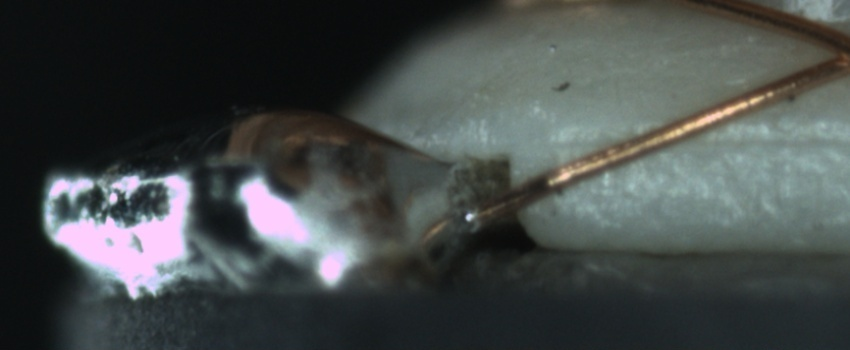DL: (560, 111, 850, 170)
